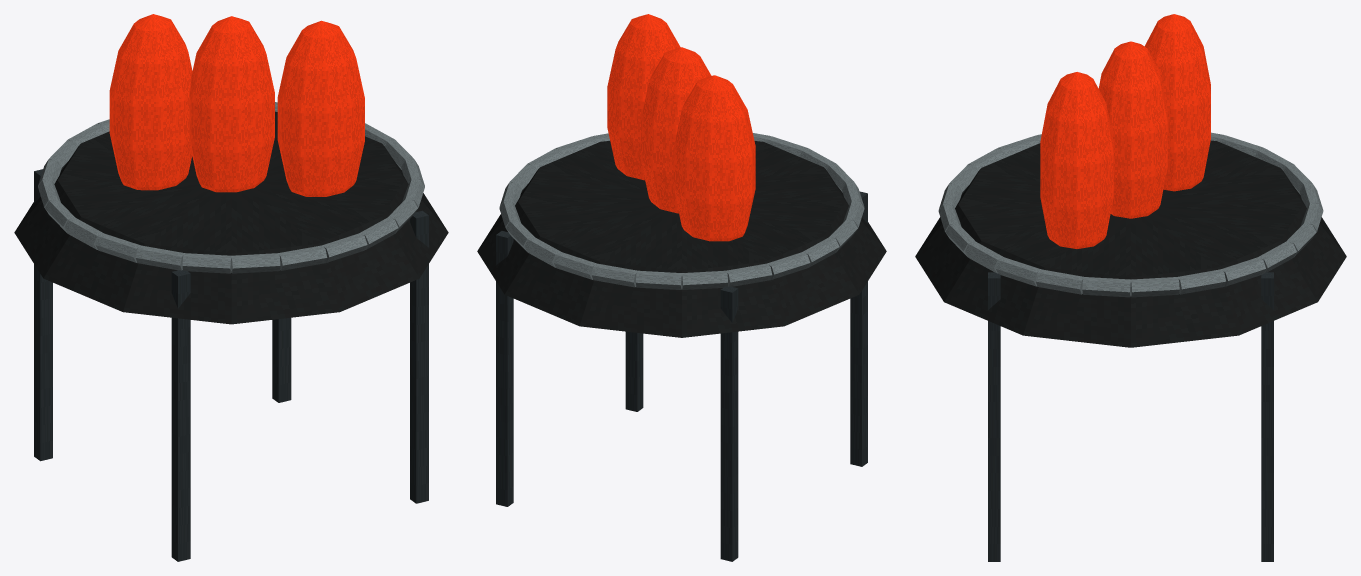
The model's file is L_forge_brazier.gltf.
The picture shows the model from 3 angles, left to right: view 1: azimuth 30°, elevation 25°; view 2: azimuth 150°, elevation 25°; view 3: azimuth 270°, elevation 25°; orthographic projection. The views are drawn at different scales.
Parts seen in each view (by area): view 1: root; view 2: root; view 3: root.
Part boxes in pixels (<box>): root: <box>14,14,448,561</box>; root: <box>477,14,886,561</box>; root: <box>915,14,1346,561</box>.
Size of the model in its own units: 1.2 by 1.41 by 1.2.
4 materials, 4 textured.
